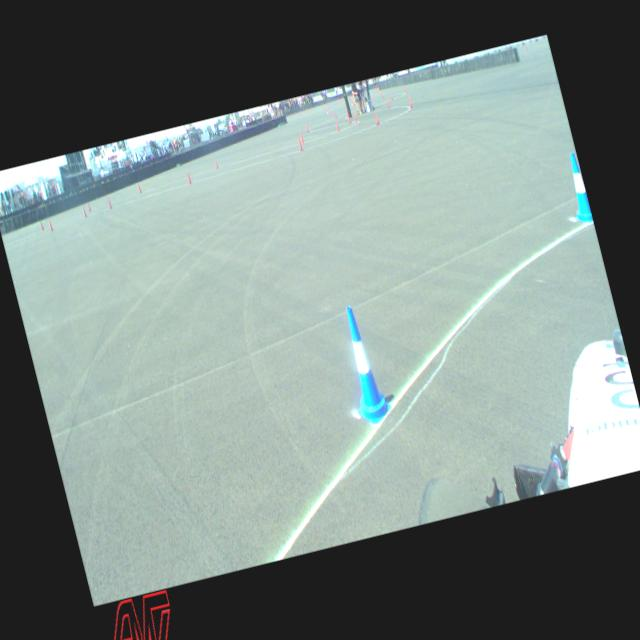blue_cone: (332, 302, 394, 428), (560, 151, 593, 225)
unknown_cone: (296, 136, 302, 150), (186, 171, 192, 184), (374, 112, 379, 125), (299, 130, 304, 142), (107, 197, 112, 208), (408, 96, 412, 108), (48, 218, 52, 230), (82, 206, 86, 217), (214, 158, 218, 168), (86, 202, 90, 210), (137, 184, 141, 192), (40, 220, 44, 228)
